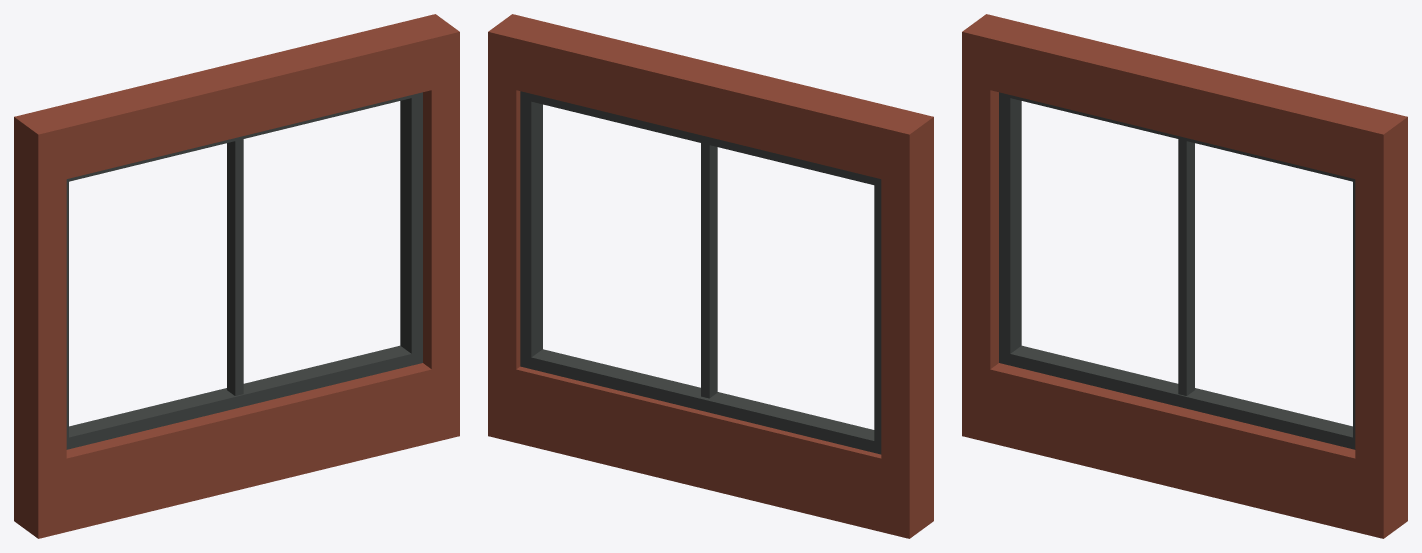
File: Kit_brick_shopwindow.fbx
3 renders of one model, left to right at view 1: azimuth 30°, elevation 25°; view 2: azimuth 150°, elevation 25°; view 3: azimuth 330°, elevation 25°, orthographic.
Parts seen in each view (by area): view 1: WallBelow, WallAbove, WallJambL, WallJambR, FrameBottom, FrameR, Mullion, FrameTop, FrameL; view 2: WallBelow, WallAbove, WallJambL, WallJambR, FrameBottom, FrameR, Mullion, FrameTop, FrameL; view 3: WallBelow, WallAbove, WallJambR, WallJambL, FrameBottom, FrameL, Mullion, FrameTop, FrameR.
Boxes of the visible parts, box(x1,y1,x2,y2) form: WallBelow: box(66, 363, 431, 531); WallAbove: box(42, 21, 431, 178); WallJambL: box(14, 110, 66, 538); WallJambR: box(408, 14, 459, 442); FrameBottom: box(66, 345, 422, 449); FrameR: box(400, 94, 422, 365); Mullion: box(227, 139, 243, 395); FrameTop: box(67, 92, 422, 181); FrameL: box(66, 179, 68, 441); WallBelow: box(516, 366, 881, 531); WallAbove: box(516, 21, 905, 178); WallJambL: box(881, 110, 933, 538); WallJambR: box(488, 14, 539, 442); FrameBottom: box(520, 349, 881, 452); FrameR: box(520, 91, 542, 368); Mullion: box(701, 143, 717, 398); FrameTop: box(527, 93, 881, 186); FrameL: box(874, 177, 881, 454); WallBelow: box(990, 363, 1355, 531); WallAbove: box(990, 21, 1379, 178); WallJambR: box(1355, 110, 1407, 538); WallJambL: box(962, 14, 1013, 442); FrameBottom: box(999, 345, 1355, 449); FrameL: box(999, 93, 1021, 364); Mullion: box(1178, 139, 1194, 395); FrameTop: box(999, 92, 1355, 181); FrameR: box(1353, 180, 1355, 439).
Size of the model in its own units: 300 by 30 by 275.
